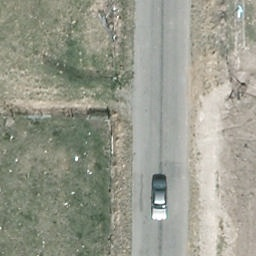car: (150, 175, 168, 221)
